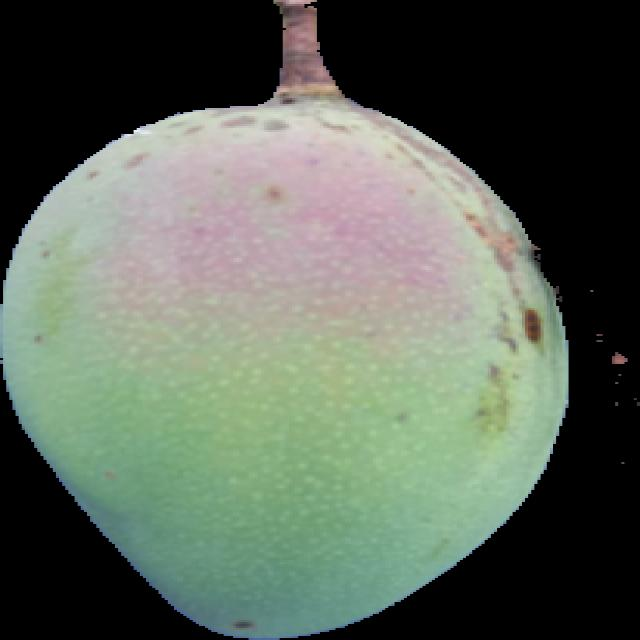Mango-sano: (0, 0, 568, 639)
